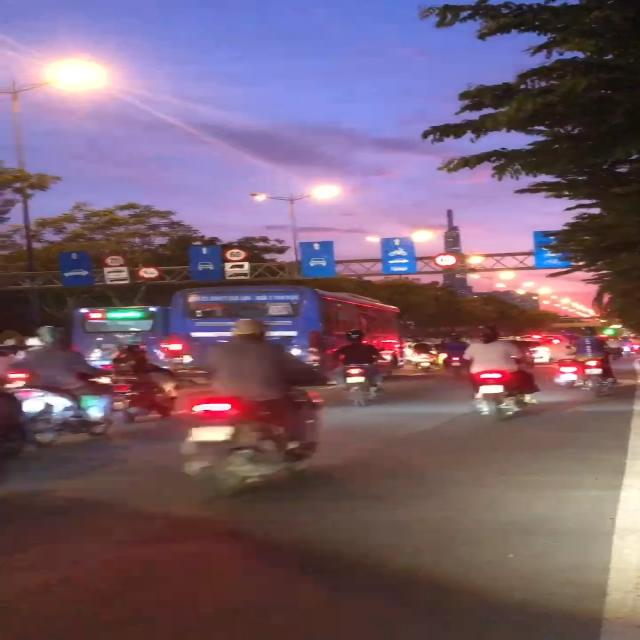Bien bao toc do toi da cho phep: (220, 247, 252, 263), (100, 253, 128, 268)
